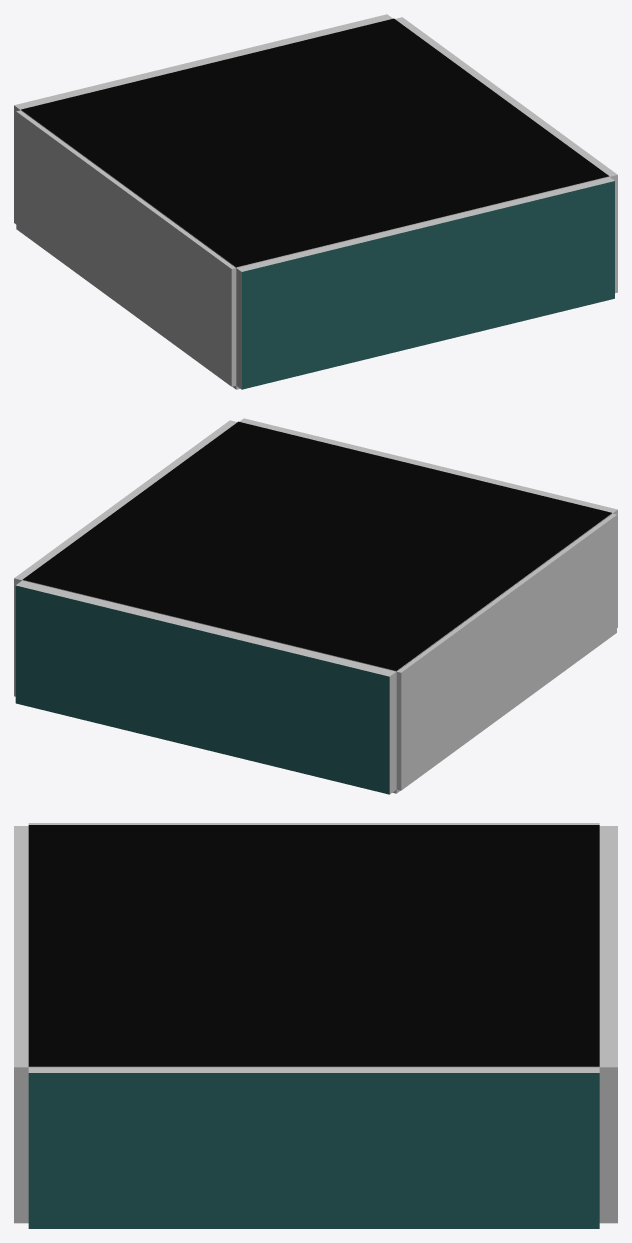
Rendered from ApartmentScale.fbx.
The picture shows the model from 3 angles, top to bottom: view 1: azimuth 30°, elevation 25°; view 2: azimuth 150°, elevation 25°; view 3: azimuth 270°, elevation 25°; orthographic projection. The views are drawn at different scales.
Parts seen in each view (by area): view 1: Room_Outline, Room_Outline_1; view 2: Room_Outline, Room_Outline_1; view 3: Room_Outline, Room_Outline_1.
Boxes of the visible parts, x1,y1,x2,y2 form: Room_Outline: [14, 14, 617, 389]; Room_Outline_1: [16, 110, 236, 386]; Room_Outline: [14, 418, 617, 794]; Room_Outline_1: [396, 513, 616, 790]; Room_Outline: [14, 825, 617, 1228]; Room_Outline_1: [28, 823, 599, 824].
Bounding box in the file's own units: 1374 × 416 × 1403.
